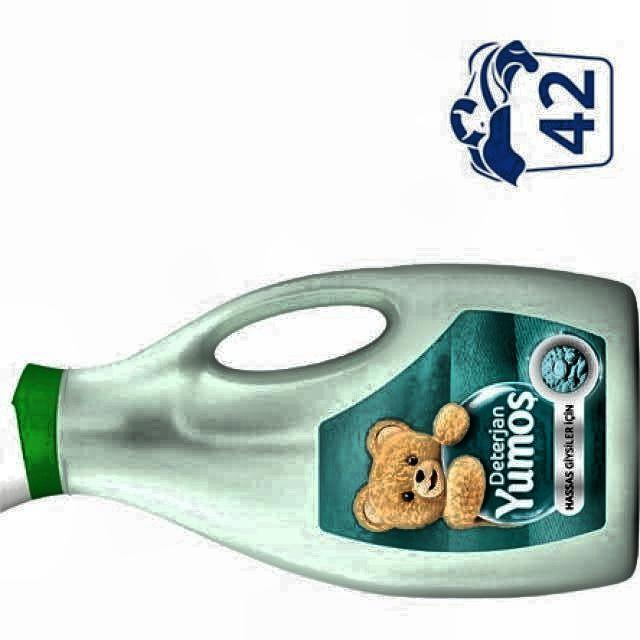plastic: (0, 264, 639, 596), (450, 41, 614, 184)
